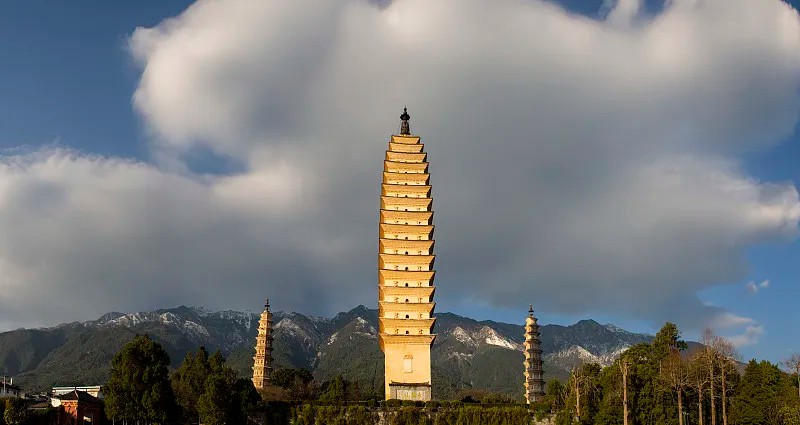ThreePagoda: (378, 106, 436, 402)
